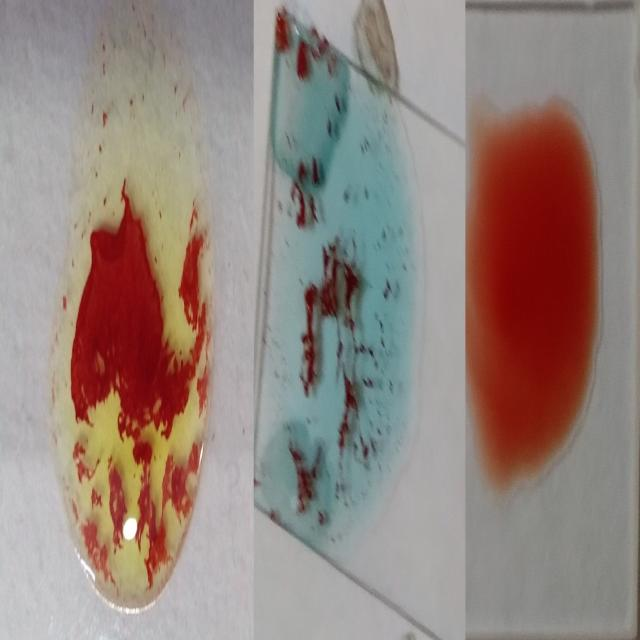A: (264, 88, 414, 545)
B: (59, 6, 210, 606)
